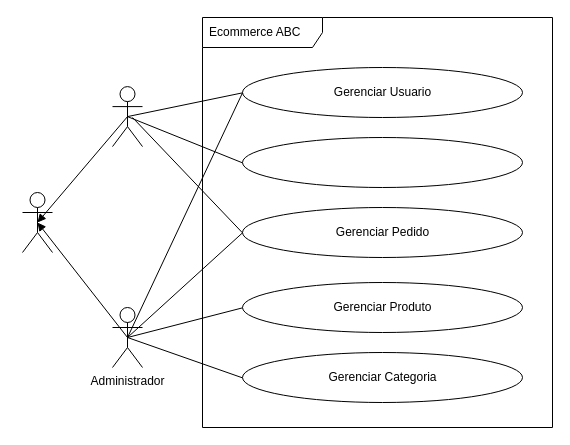
The diagram is 570 pixels wide and 445 high, and some of its shapes have lost their labels. Here are the shapes that lost their labels. From the top down, the box of each, then its label:
(112, 86, 142, 147): Cliente
(242, 136, 522, 188): Gerenciar Carrinho
(22, 192, 52, 252): Usuário
